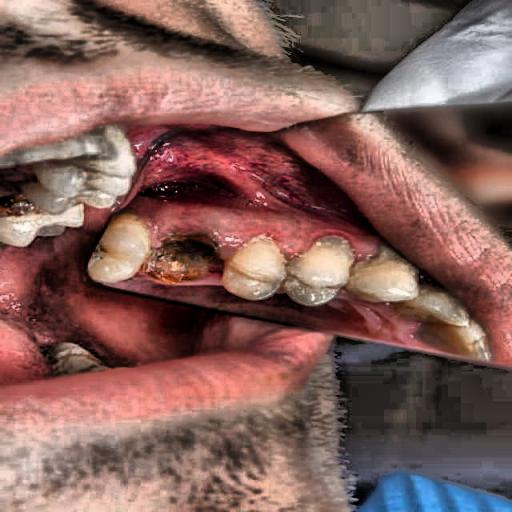Caries: (132, 215, 262, 302)
